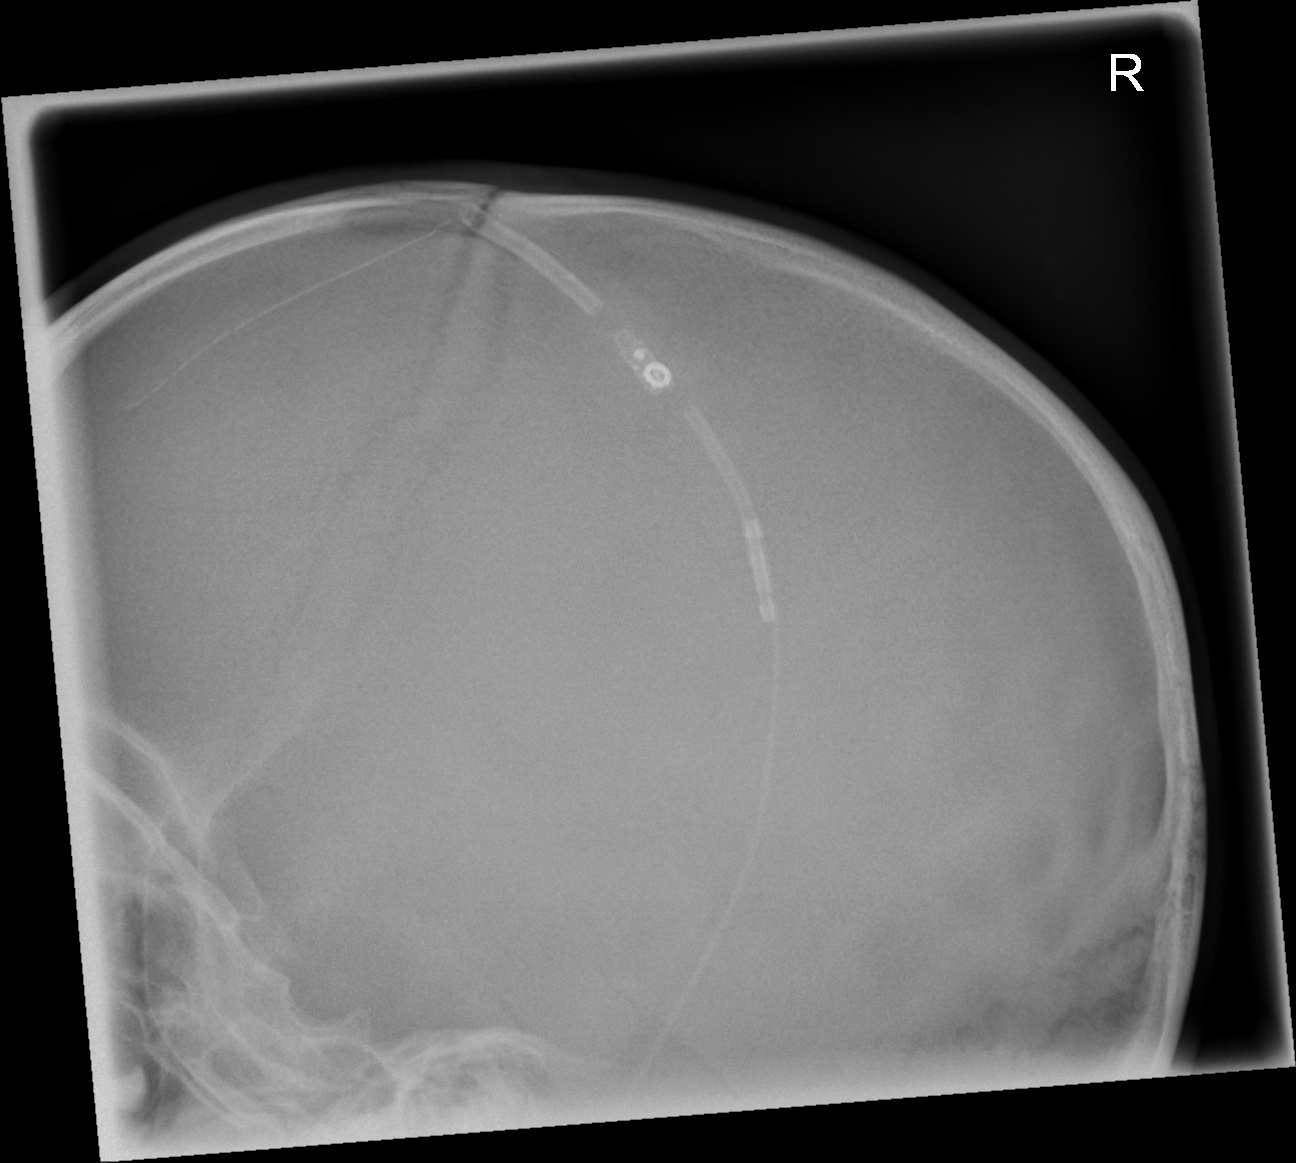Codman Hakim: (605, 324, 684, 406)
